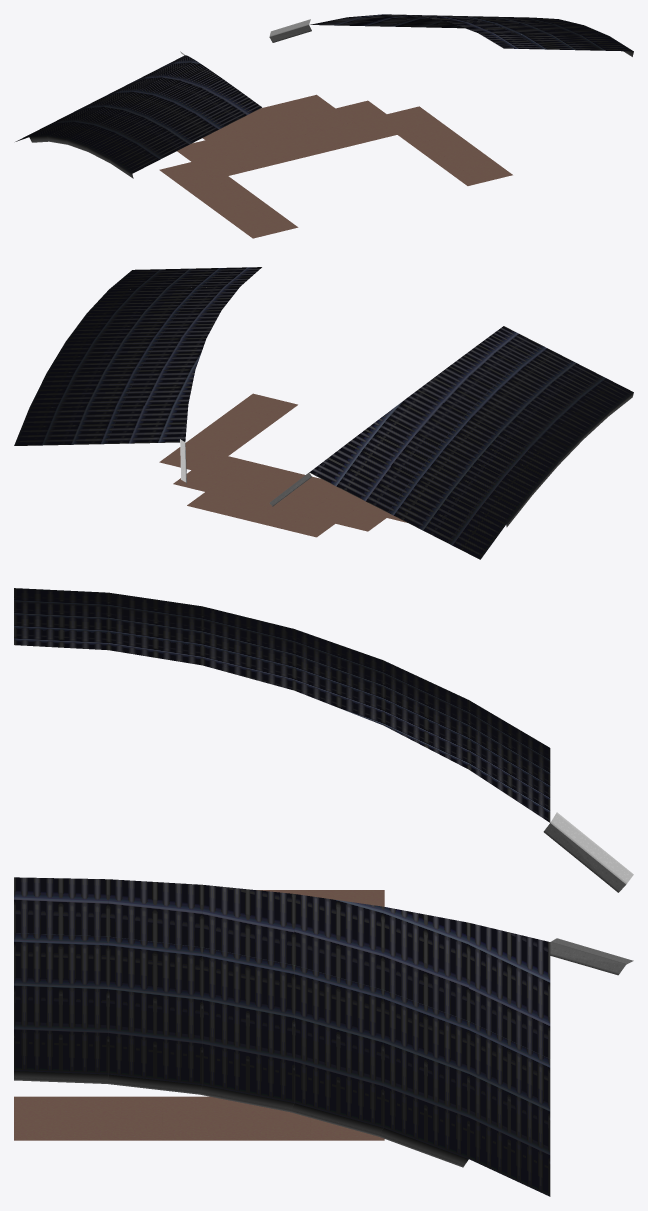
3 views of the same model, one above another, from view 1: azimuth 30°, elevation 25°; view 2: azimuth 150°, elevation 25°; view 3: azimuth 270°, elevation 25° (orthographic). The views are drawn at different scales.
Size of the model in its own units: 237 by 58.26 by 129.
Materials: 5 (5 with a texture image).
